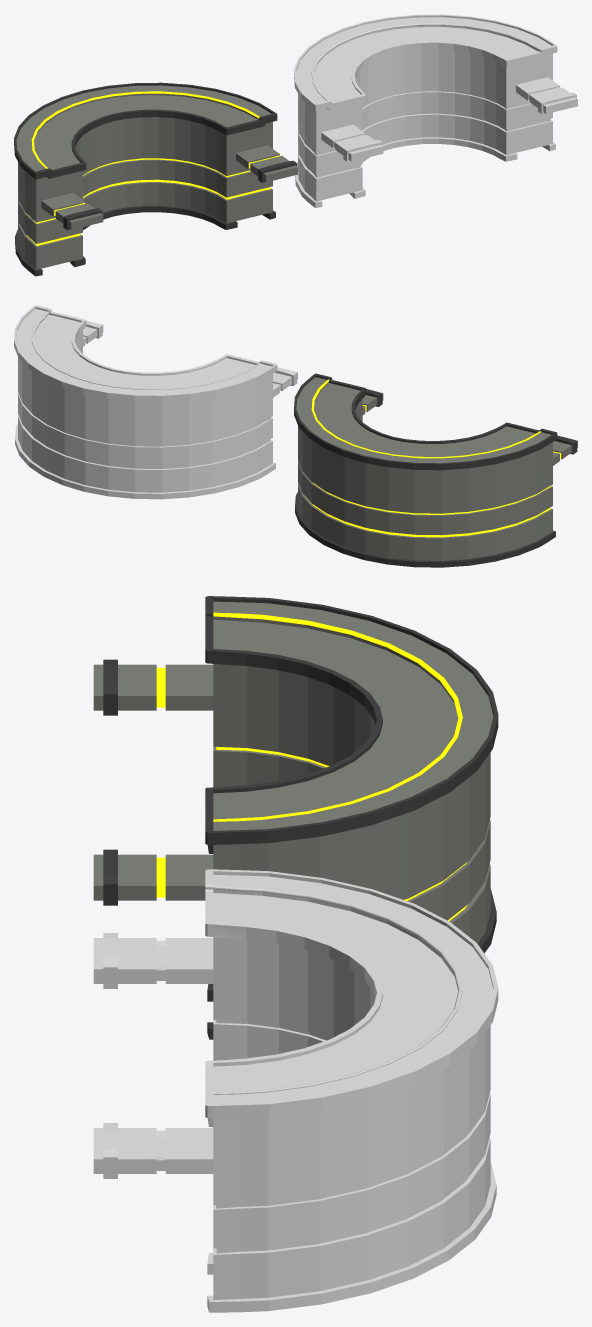
File: Newer Desk.fbx
3 renders of one model, top to bottom at view 1: azimuth 30°, elevation 25°; view 2: azimuth 150°, elevation 25°; view 3: azimuth 270°, elevation 25°, orthographic. The views are drawn at different scales.
Visible parts, largest first — view 1: Real desk, Real desk.001; view 2: Real desk, Real desk.001; view 3: Real desk.001, Real desk.
Boxes of the visible parts, bbox=[...] form: Real desk: bbox=[14, 82, 297, 276]; Real desk.001: bbox=[294, 14, 577, 207]; Real desk: bbox=[294, 373, 577, 567]; Real desk.001: bbox=[14, 305, 297, 499]; Real desk.001: bbox=[93, 869, 498, 1312]; Real desk: bbox=[93, 596, 498, 1039].
Bounding box in the file's own units: 246 × 732 × 139.
